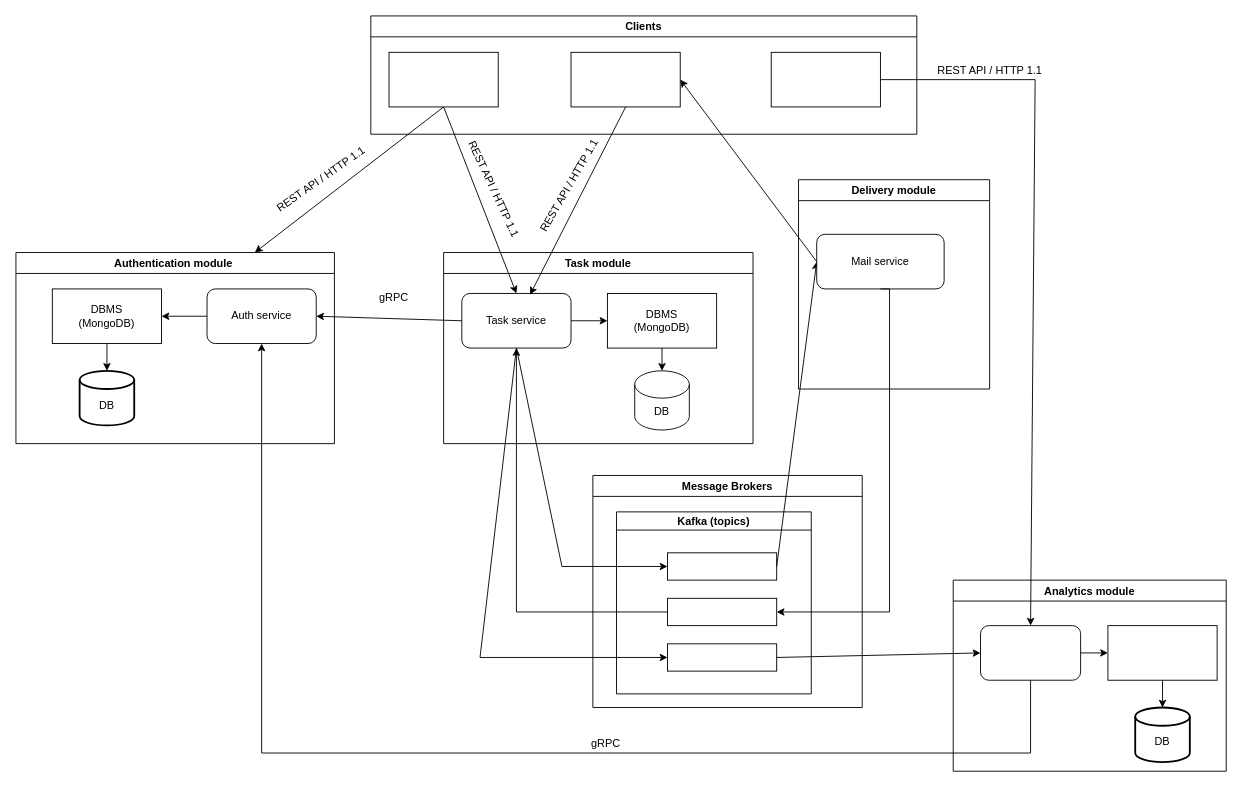
The diagram is 1242 pixels wide and 787 high, and some of its shapes have lost their labels. The shapes that lost their labels are listed below. From the top down, each one's centre as x and y in pixels, then its label:
At (443,79): "Client (applicant)".
At (625,79): "Client (responsible)".
At (825,79): "Client (analyst)".
At (722,566): "mailTasks".
At (722,611): "mailResponse".
At (722,657): "taskAnalytics".
At (1030,652): "Analytics service".
At (1162,652): "DBMS (PostgreSQL)".
